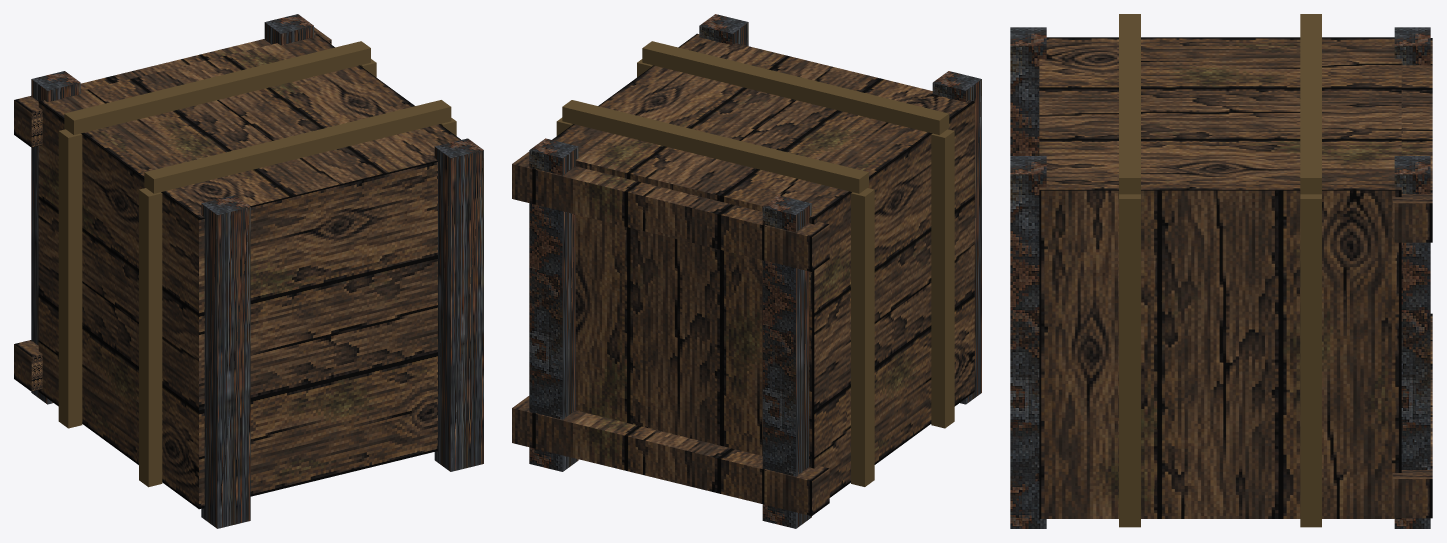
Rendered from C04_Caixa_Cordas.obj.
3 renders of one model, left to right at view 1: azimuth 30°, elevation 25°; view 2: azimuth 150°, elevation 25°; view 3: azimuth 270°, elevation 25°, orthographic. The views are drawn at different scales.
Visible parts, largest first — view 1: C04_Caixa_Cordas; view 2: C04_Caixa_Cordas; view 3: C04_Caixa_Cordas.
Boxes of the visible parts, <box> form: C04_Caixa_Cordas: <box>14,14,483,528</box>; C04_Caixa_Cordas: <box>512,14,981,528</box>; C04_Caixa_Cordas: <box>1010,14,1432,528</box>.
Bounding box in the file's own units: 1.11 × 1.09 × 1.16.
Materials: 3 (2 with a texture image).
